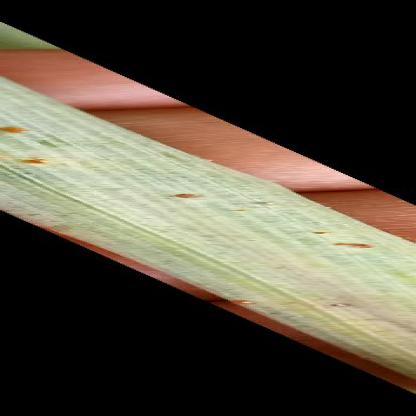wheat Stem Rust: (272, 294, 415, 315), (265, 240, 405, 256), (147, 189, 255, 204), (0, 122, 76, 138), (0, 156, 104, 166)
